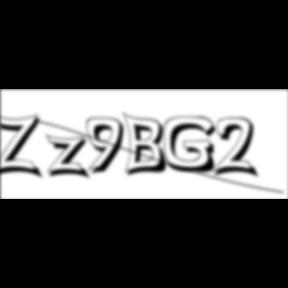2: (213, 117, 263, 181)
9: (86, 117, 132, 177)
B: (123, 111, 173, 179)
G: (163, 116, 222, 176)
Z: (0, 112, 46, 181)
z: (46, 134, 94, 182)
